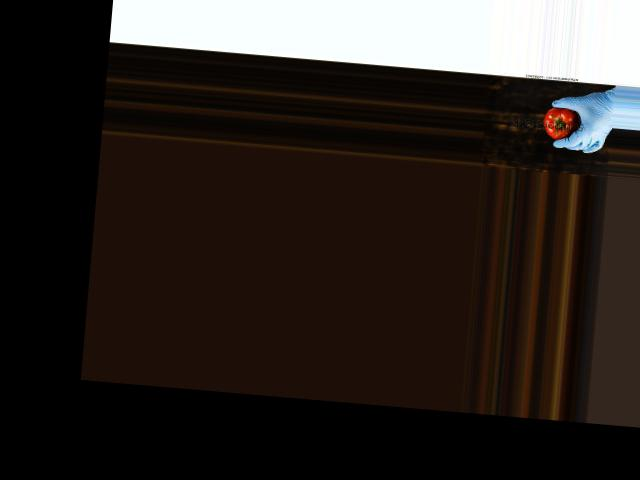tomato: (541, 105, 579, 141)
